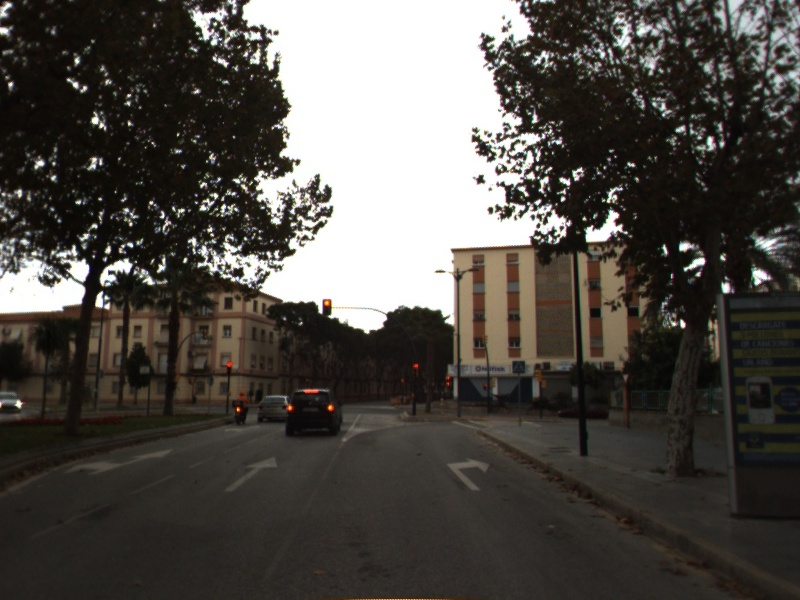RIGHT: (444, 456, 492, 493)
STRAIGHT: (222, 454, 279, 494)
STRAIGHT_LEFT: (62, 445, 178, 478)
